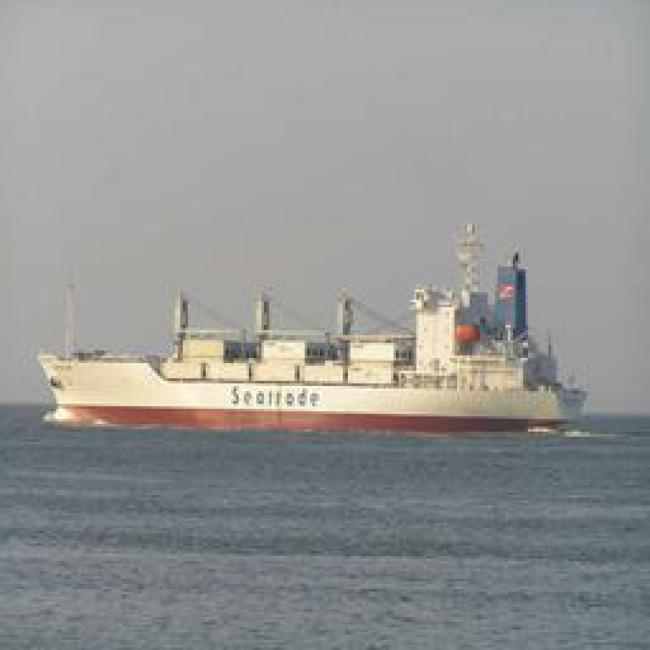Ship: (34, 306, 587, 438)
